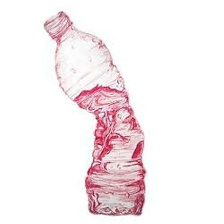bottle: (40, 9, 151, 217)
